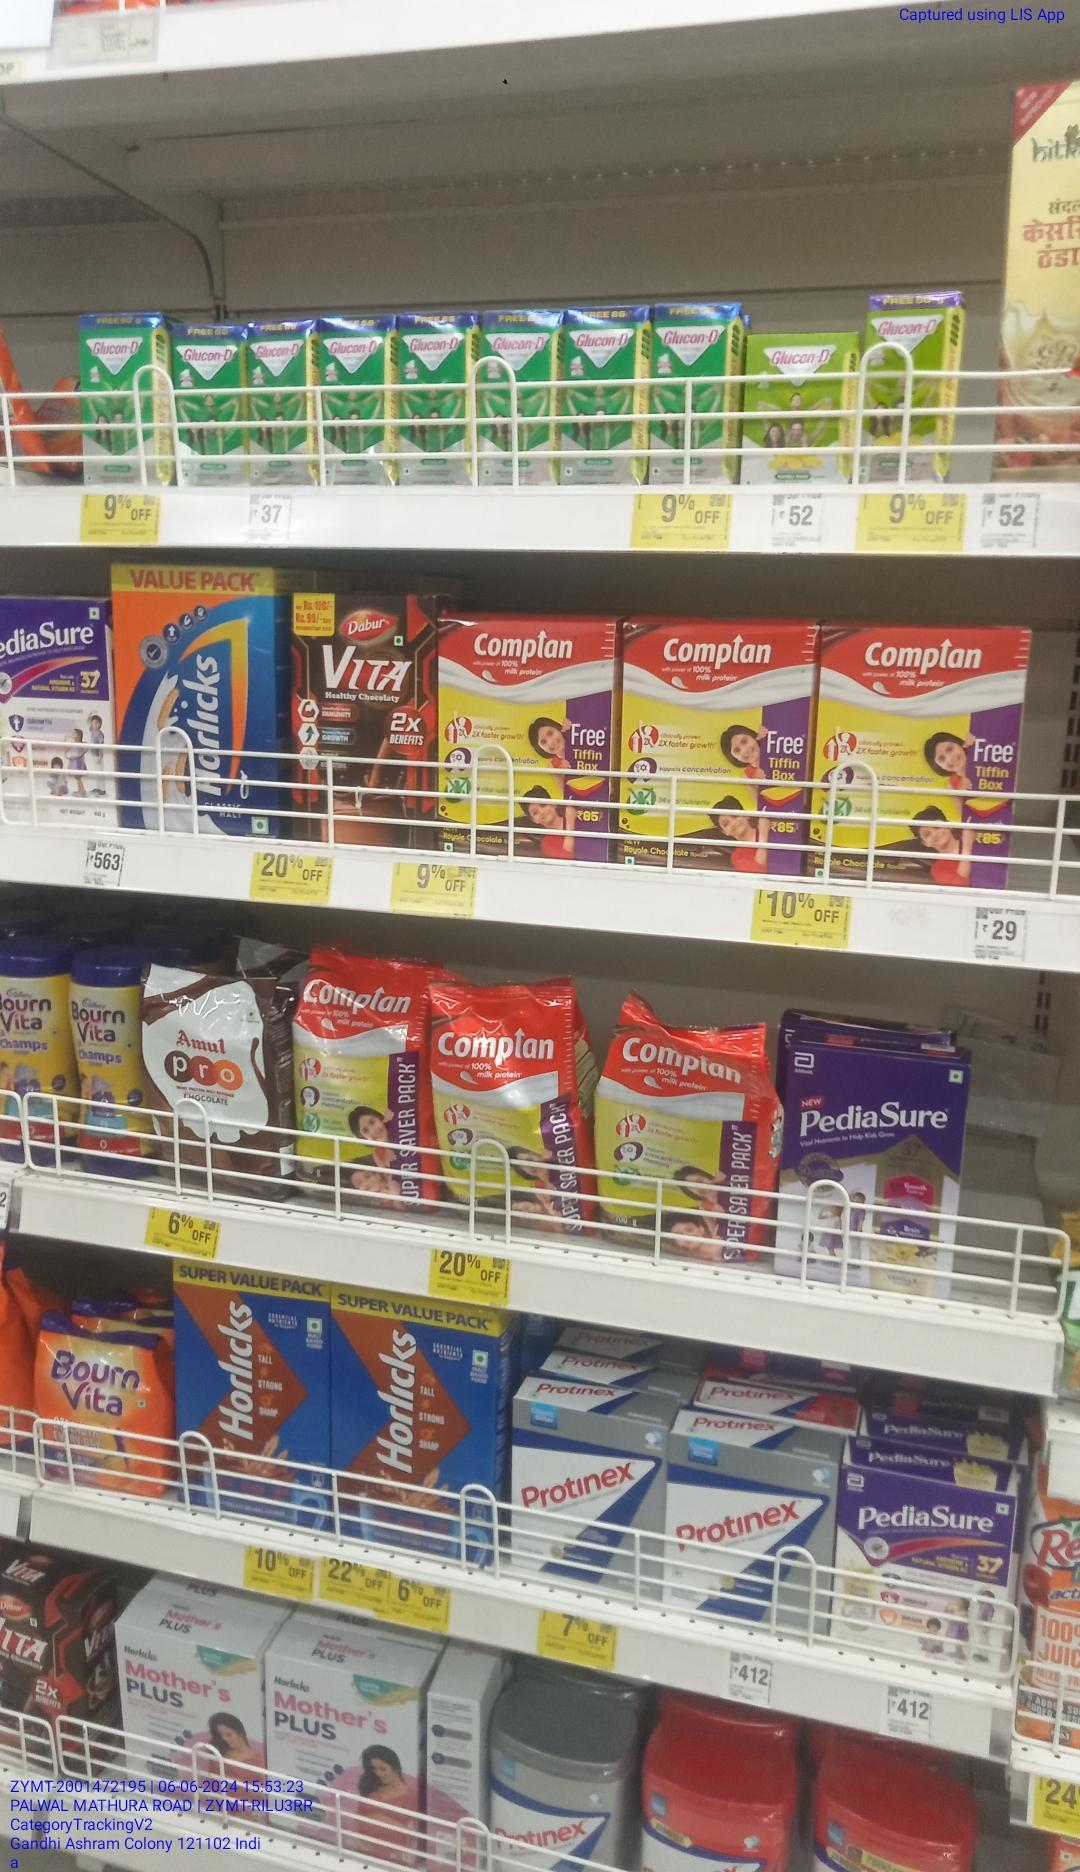BOURN_VITA_500_G_POUCH: (27, 1318, 175, 1494)
BOURN_VITA_CHAMPS_500_G_JAR: (73, 940, 148, 1173), (0, 939, 68, 1165)
COMPLAN_RC_POUCH_700_GMS_12: (599, 1017, 764, 1248), (440, 977, 585, 1230), (292, 954, 432, 1212)
HORLICK_CHOCOLATE_1_KG_PACK: (332, 1292, 501, 1556), (184, 1266, 329, 1524)
HORLICK_CLASSIC_MALT_500_G_PACK: (117, 564, 282, 833)
PEDIASURE_VANILLA_500_G_PACK: (779, 1045, 967, 1291)
